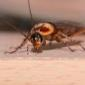cockroach: (25, 19, 84, 51)
